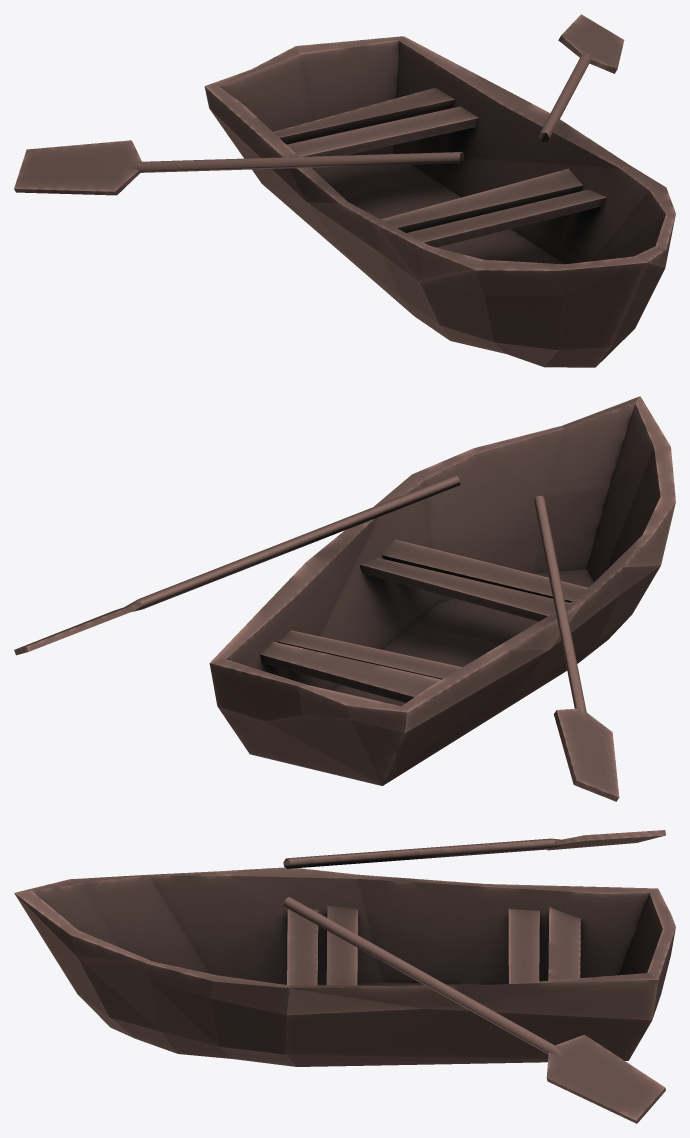
The model's file is Boat_2.fbx.
3 renders of one model, top to bottom at view 1: azimuth 30°, elevation 25°; view 2: azimuth 150°, elevation 25°; view 3: azimuth 270°, elevation 25°, orthographic. The views are drawn at different scales.
Visible parts, largest first — view 1: Boat_2; view 2: Boat_2; view 3: Boat_2.
Part boxes in pixels (x1,y1,x2,y2): Boat_2: (14, 14, 675, 367); Boat_2: (14, 396, 675, 801); Boat_2: (14, 830, 675, 1123).
Bounding box in the file's own units: 116 × 28.5 × 115.
